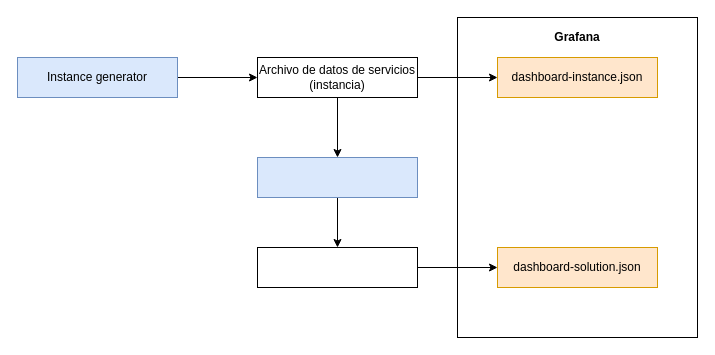
Some shapes in this 715 by 355 pixel diagram are drawn without their labels. Here are the shapes that lost their labels. From the top down, the centre of each, then its label:
(337,177): Algoritmo
(337,267): Archivo de datos de solución (solución)
